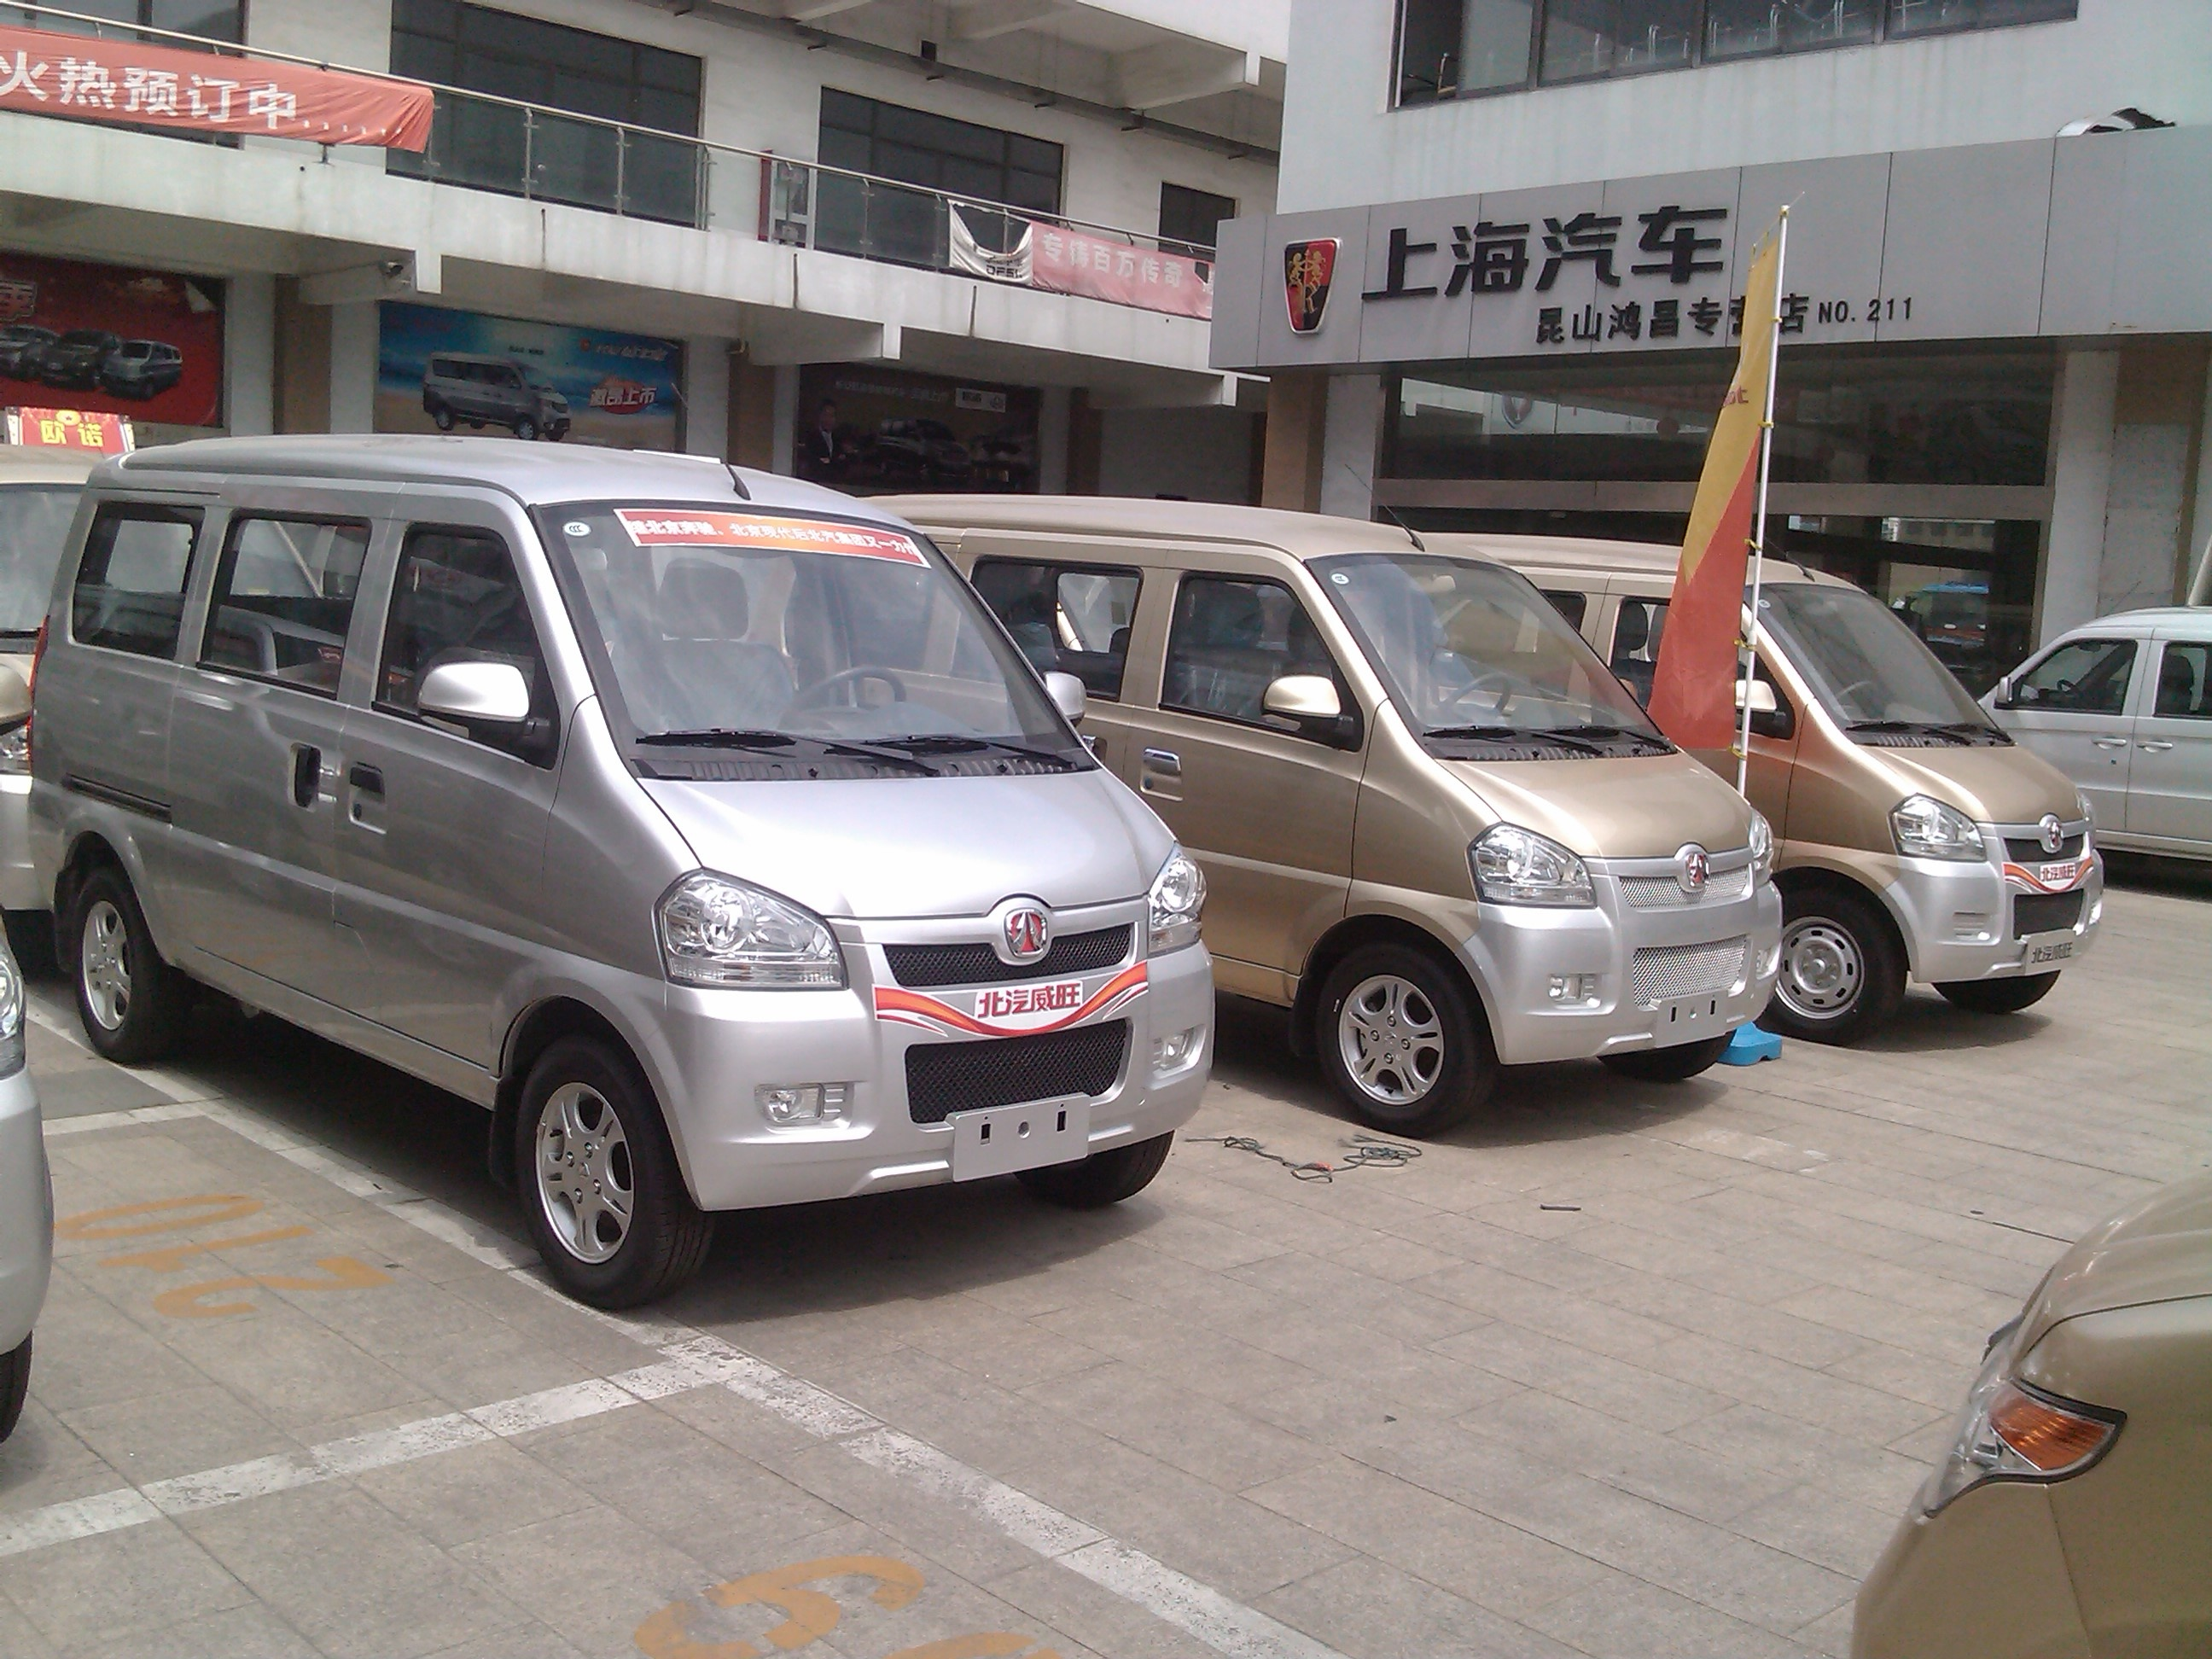minibus: (59, 382, 1198, 1309), (1021, 483, 1778, 1114), (1489, 512, 2146, 1063)
